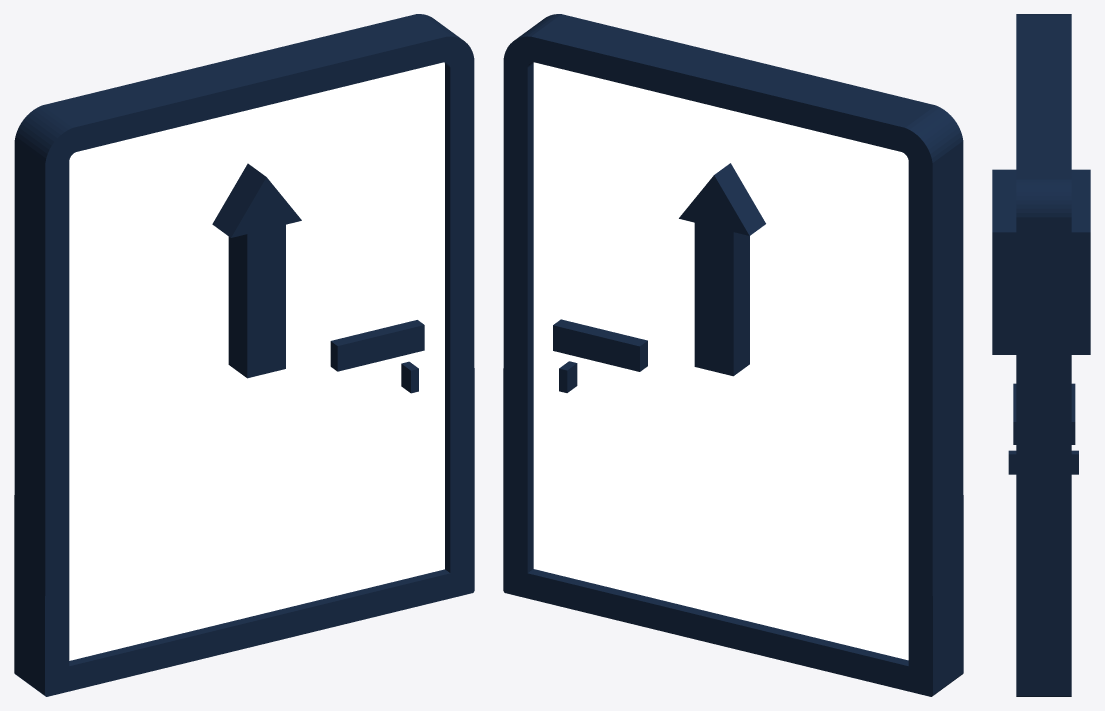
3 renders of one model, left to right at view 1: azimuth 30°, elevation 25°; view 2: azimuth 150°, elevation 25°; view 3: azimuth 270°, elevation 25°, orthographic. The views are drawn at different scales.
Visible parts, largest first — view 1: iconSpaceEntranceDoor; view 2: iconSpaceEntranceDoor; view 3: iconSpaceEntranceDoor.
Boxes of the visible parts, box(x1,y1,x2,y2) form: iconSpaceEntranceDoor: box(14, 14, 474, 696); iconSpaceEntranceDoor: box(503, 14, 963, 696); iconSpaceEntranceDoor: box(992, 14, 1090, 696).
Bounding box in the file's own units: 0.4013 × 0.5025 × 0.0885.
Materials: 2 (1 with a texture image).
